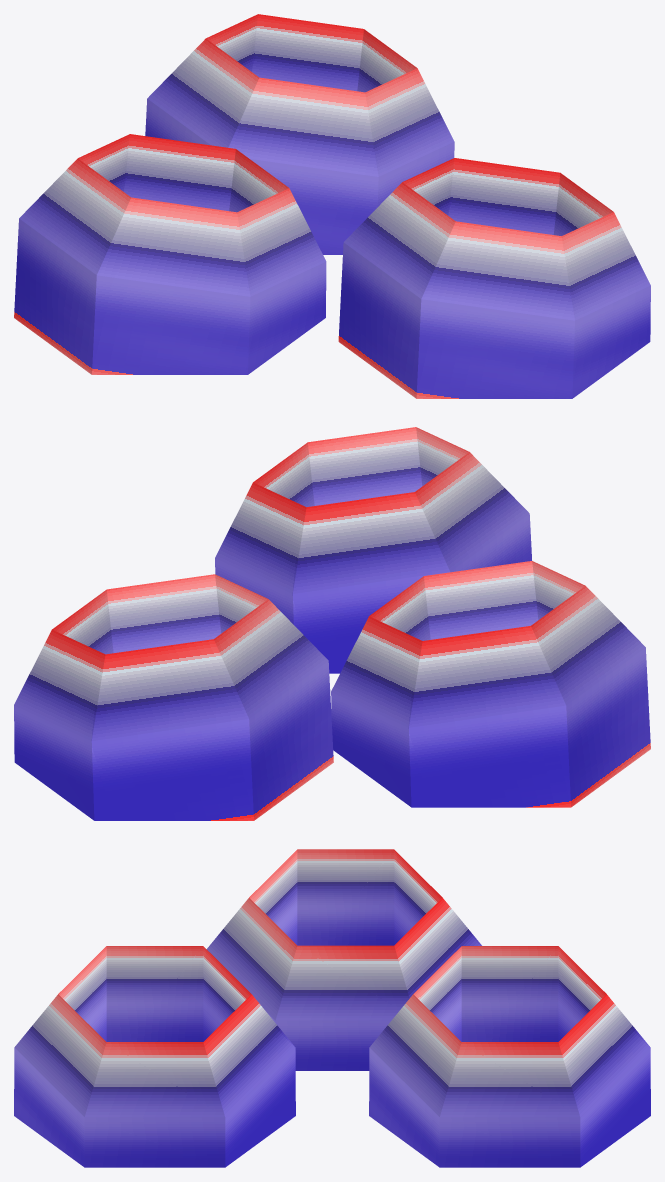
The model's file is tank01.glb.
3 views of the same model, one above another, from view 1: azimuth 30°, elevation 25°; view 2: azimuth 150°, elevation 25°; view 3: azimuth 270°, elevation 25° (orthographic). The views are drawn at different scales.
Parts seen in each view (by area): view 1: tank01; view 2: tank01; view 3: tank01.
Boxes of the visible parts, box(x1,y1,x2,y2) form: tank01: box(14, 14, 650, 398); tank01: box(14, 427, 650, 820); tank01: box(14, 849, 650, 1167).
Bounding box in the file's own units: 399 × 131 × 536.
Materials: 1 (1 with a texture image).
